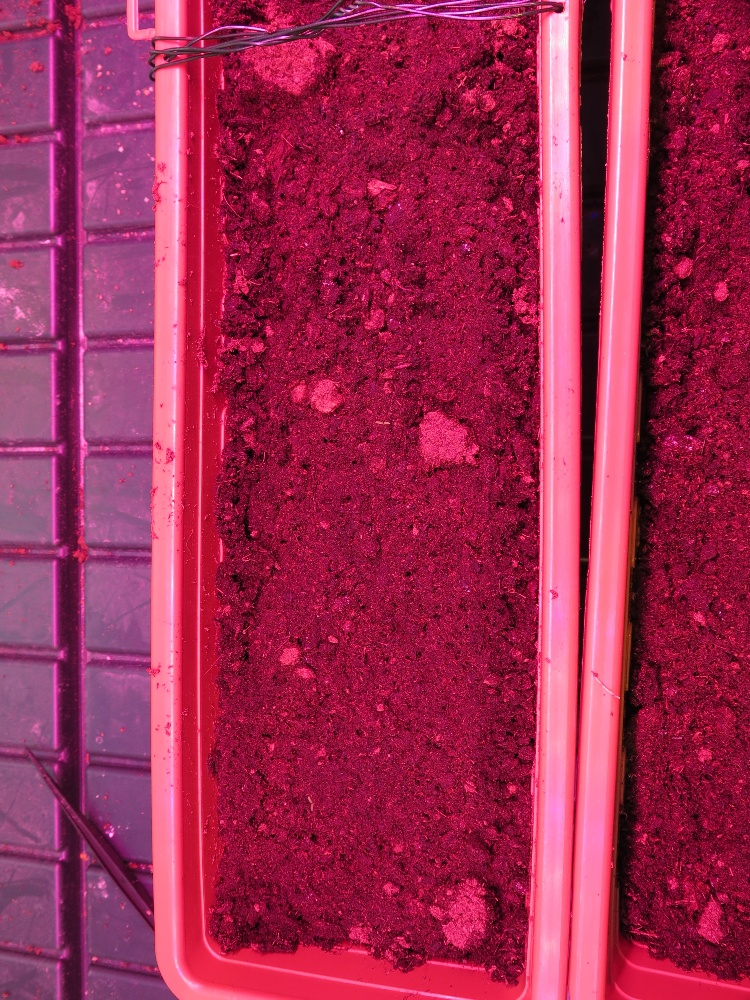weed: (307, 795, 313, 814)
